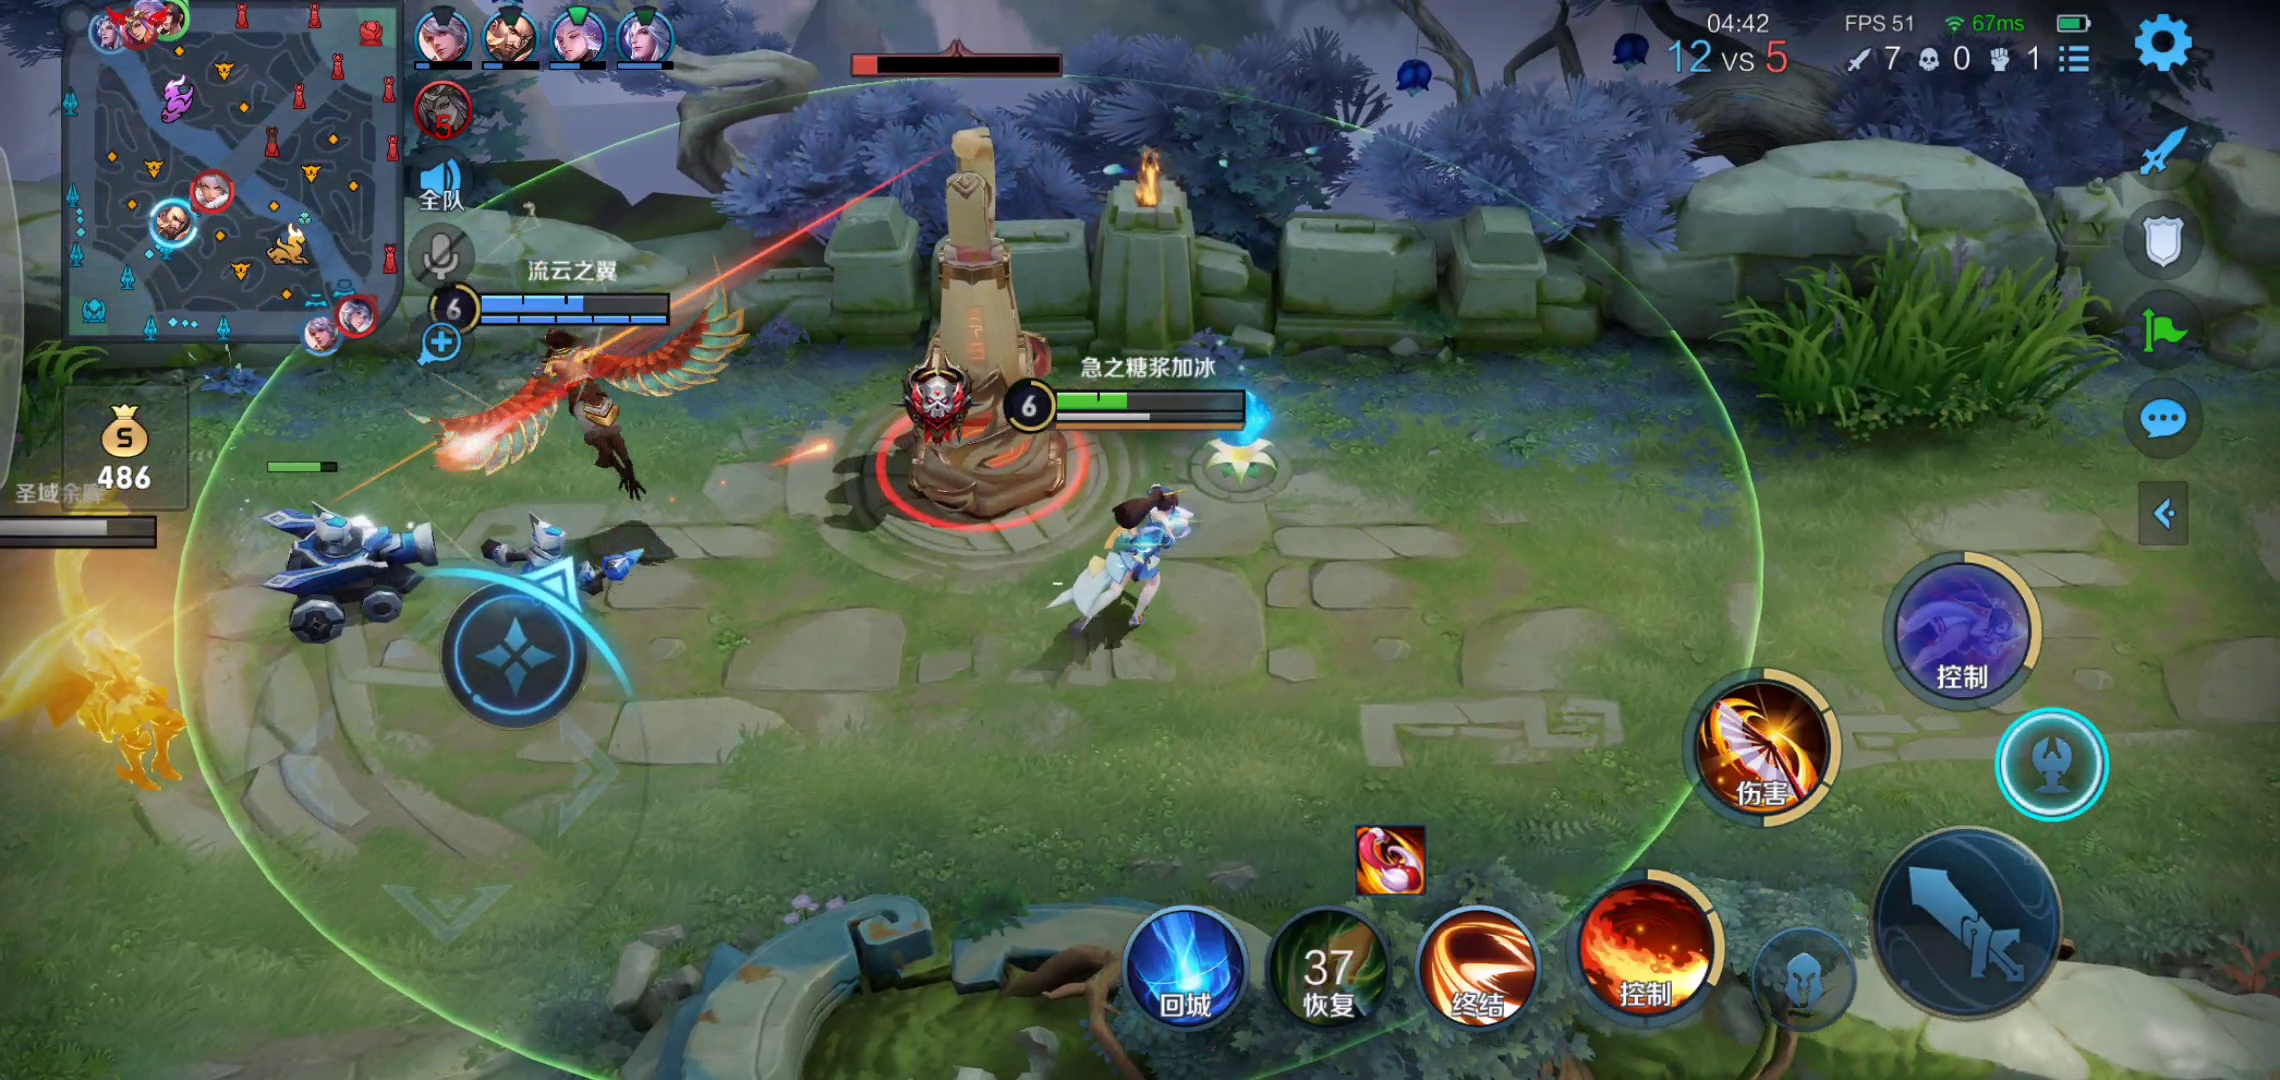grass: (1711, 240, 2110, 448)
hero: (17, 567, 222, 814), (464, 343, 734, 506), (1057, 480, 1213, 650)
soldier: (265, 494, 448, 640), (507, 528, 638, 624)
tower: (870, 134, 1077, 523)
